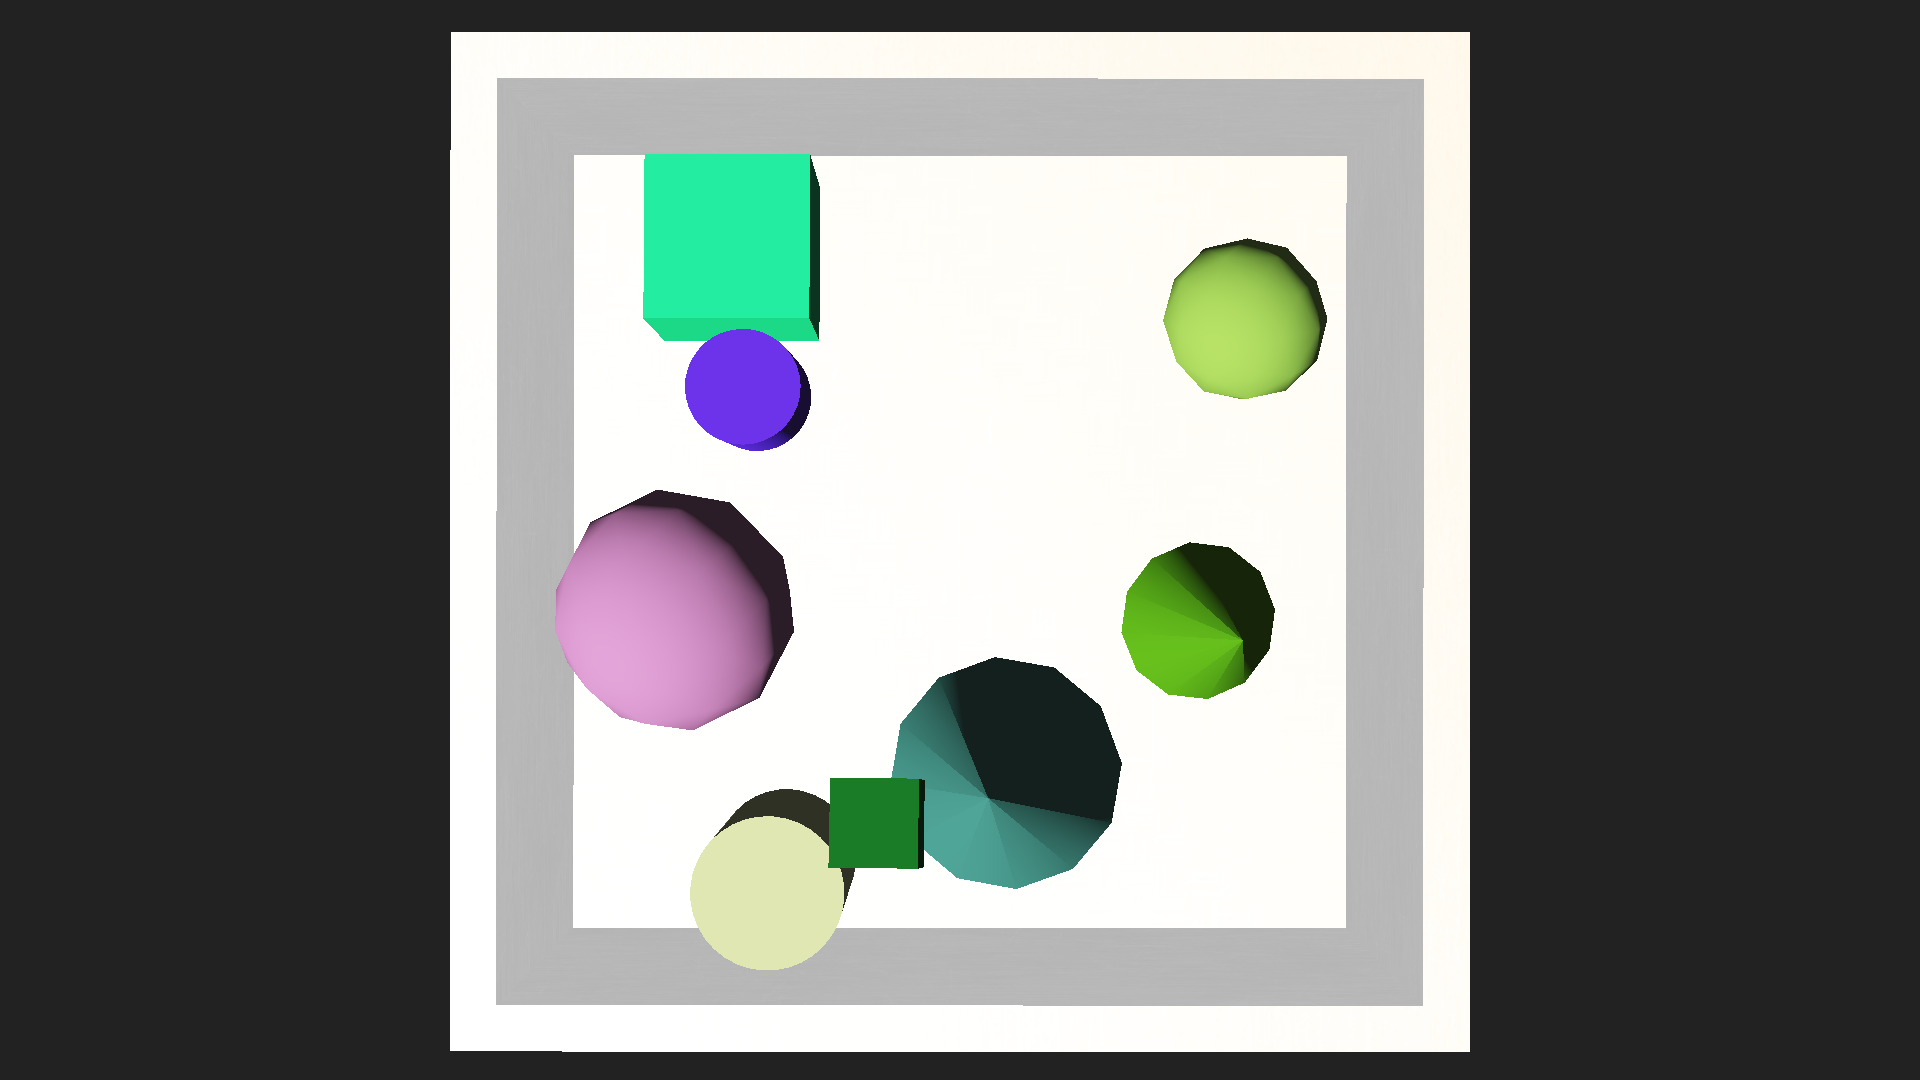3: (642, 153, 819, 342), (828, 769, 924, 880)
cone: (688, 787, 855, 971), (684, 328, 810, 450)
cylinder: (847, 645, 1151, 942), (1117, 539, 1331, 727)
sphere: (553, 487, 796, 731), (1162, 237, 1327, 401)
